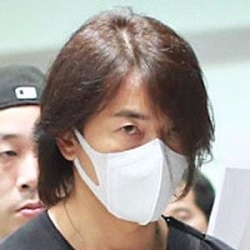mask: (64, 132, 189, 230)
